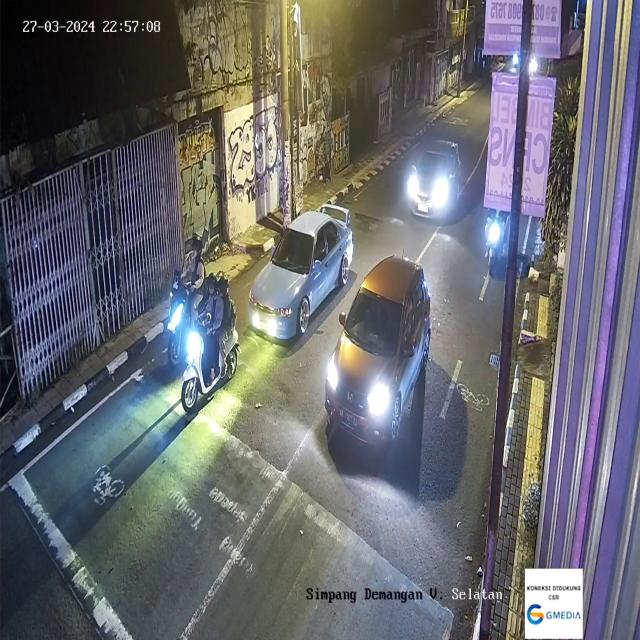car: (321, 255, 437, 446), (248, 211, 354, 340), (409, 142, 465, 221)
motorcycle: (179, 266, 239, 412), (170, 236, 211, 363), (484, 184, 506, 282)
